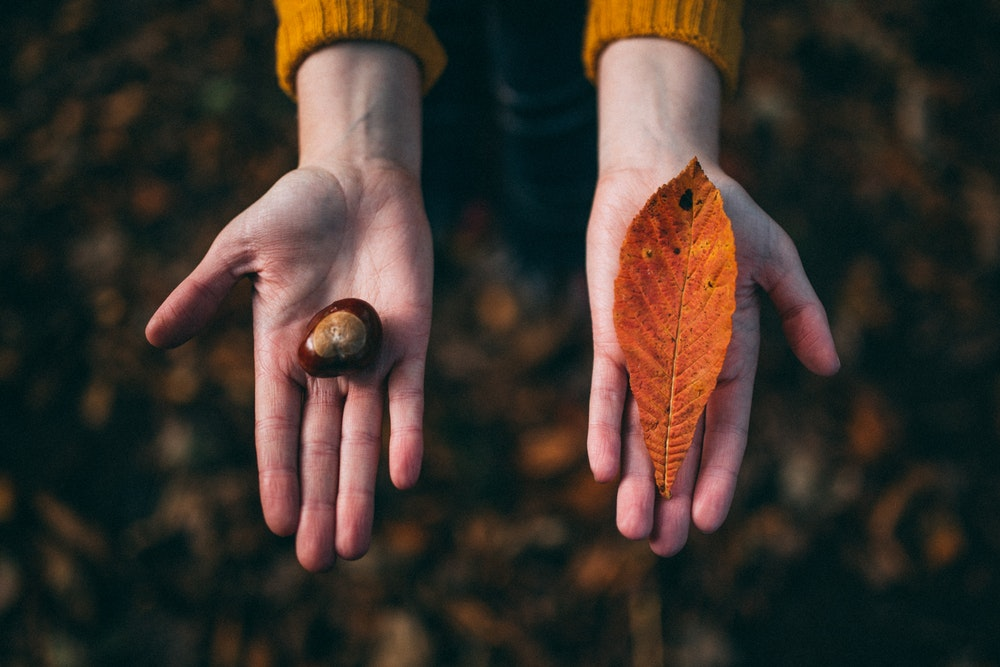palm: (254, 179, 437, 386), (583, 188, 763, 388)
